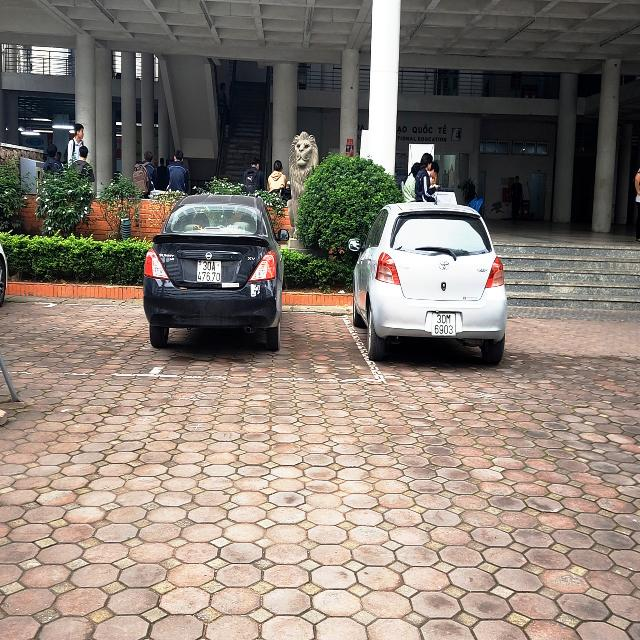license_plate: (198, 261, 223, 284), (433, 314, 456, 337)
